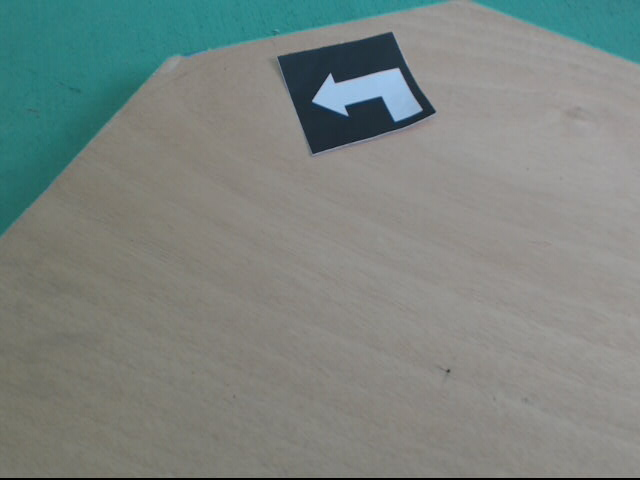left: (278, 32, 438, 157)
